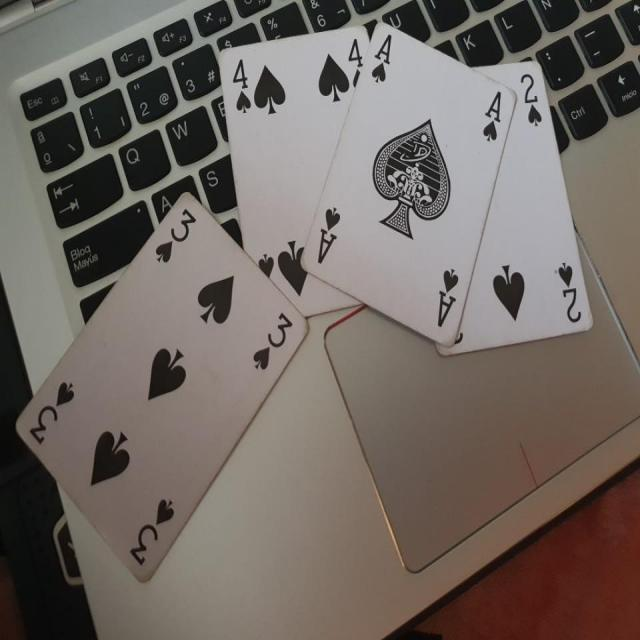2 Spades: (416, 59, 593, 367)
3 Spades: (19, 189, 308, 618)
4 Spades: (209, 26, 387, 334)
A Spades: (299, 21, 519, 354)
